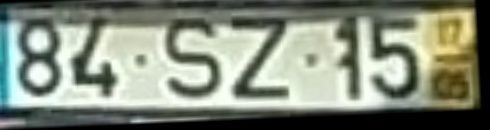1: (330, 11, 366, 105)
4: (70, 14, 122, 101)
5: (370, 14, 423, 103)
8: (14, 14, 66, 100)
S: (163, 13, 226, 101)
Z: (229, 15, 295, 103)
